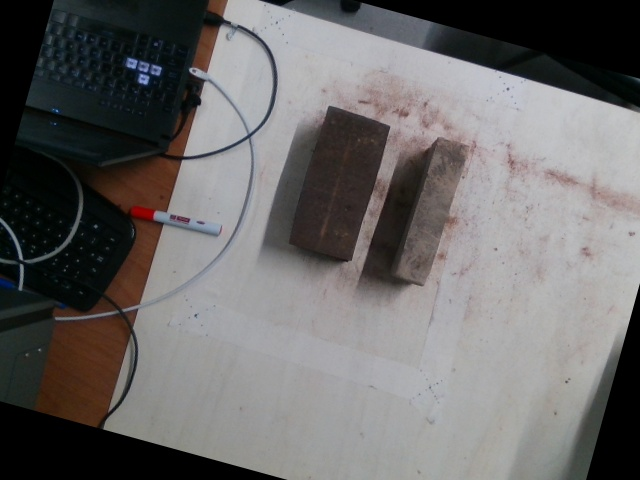brick: (290, 106, 392, 259)
brick-side: (398, 137, 467, 283)
